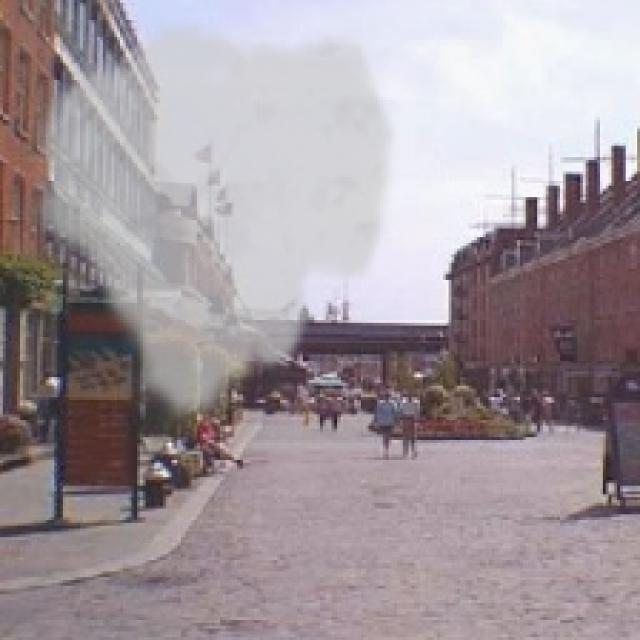Smoke: (26, 17, 400, 429)
